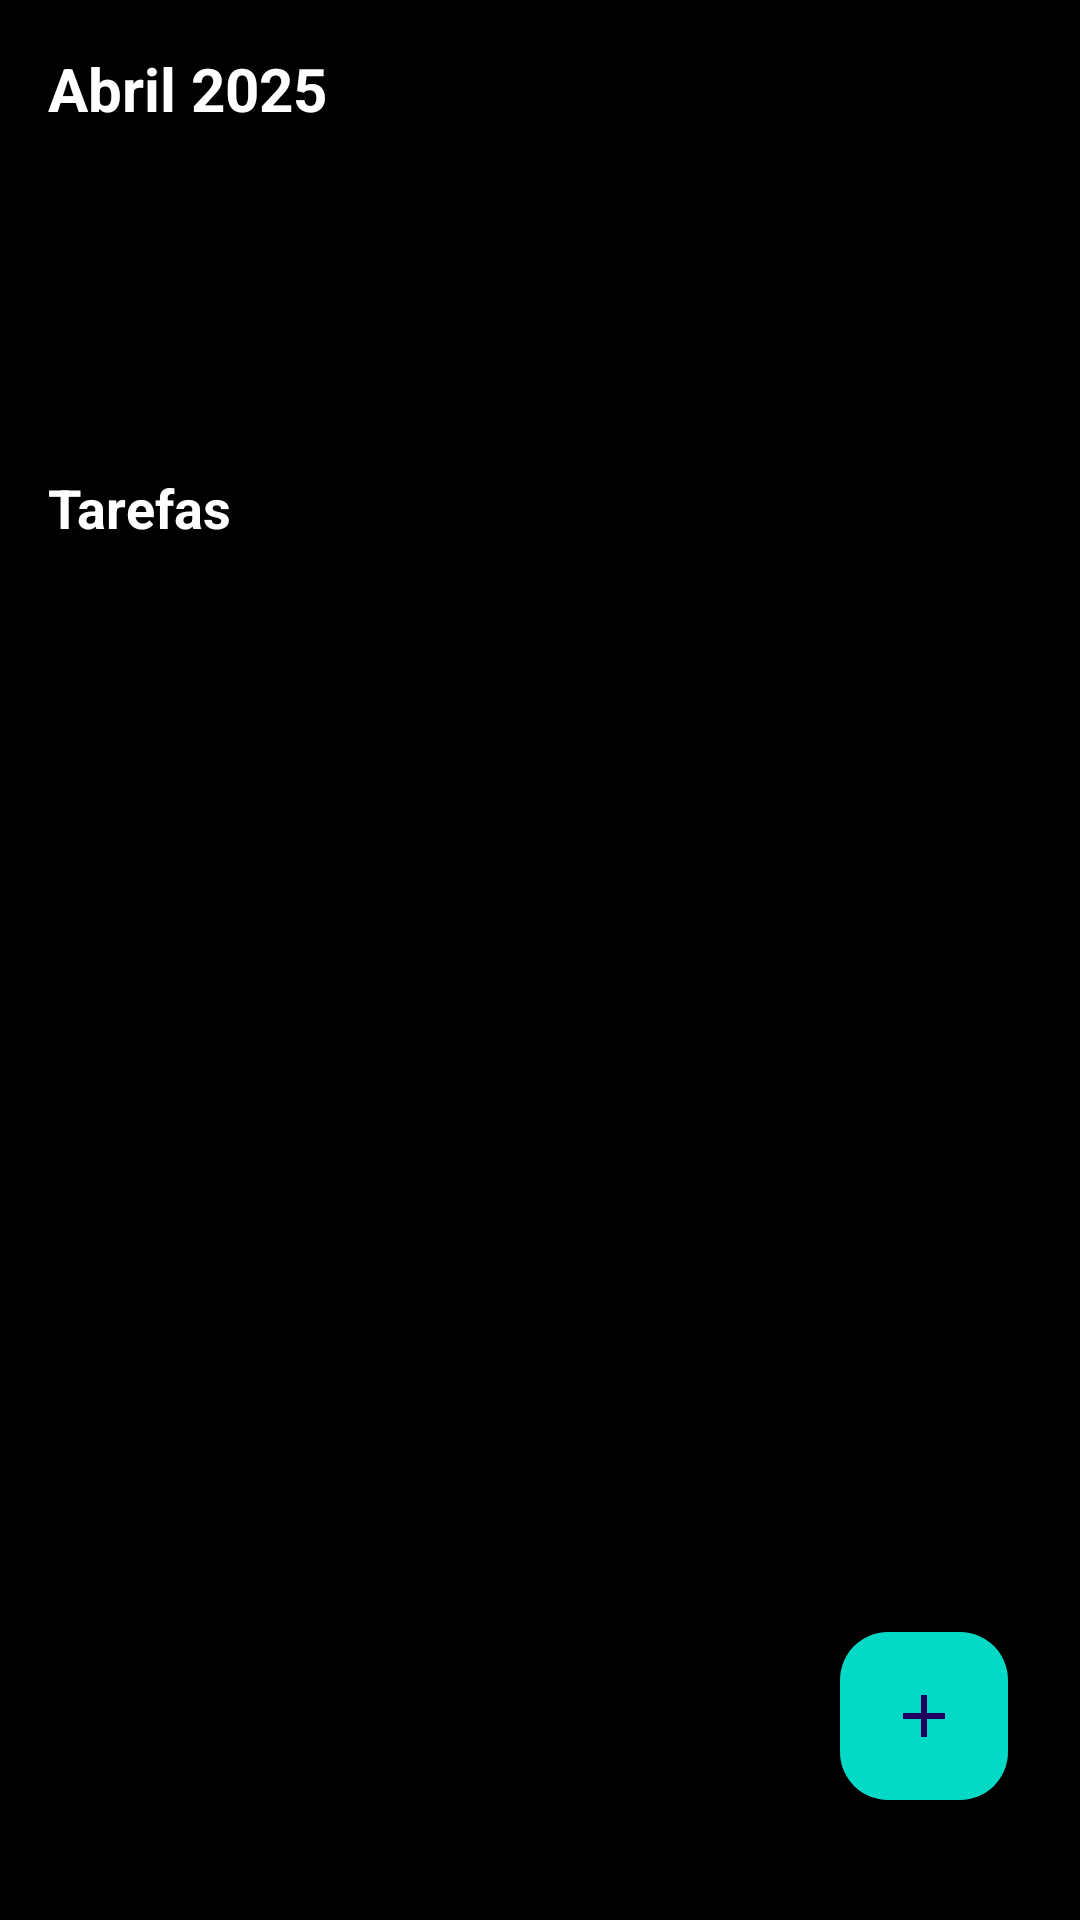

Where to tap for icons on this 1080 × 1920 app screen, as (x=x, y=y):
Nova Tarefa: (x=924, y=1716)
